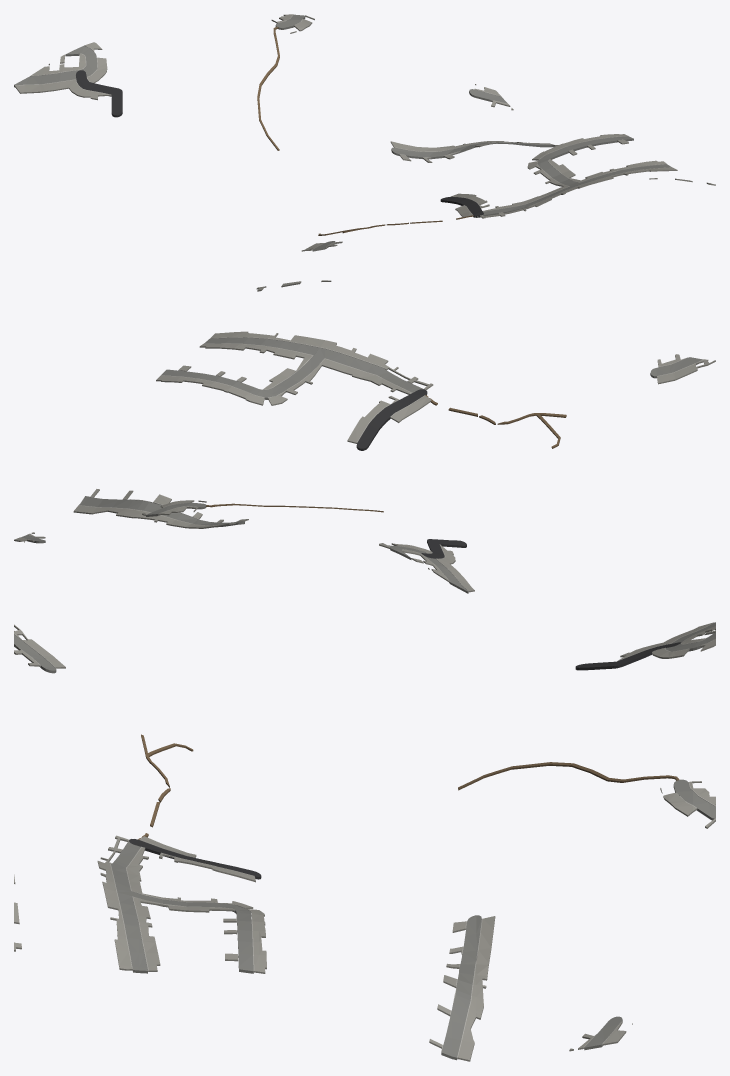
The picture shows the model from 3 angles, top to bottom: view 1: azimuth 30°, elevation 25°; view 2: azimuth 150°, elevation 25°; view 3: azimuth 270°, elevation 25°; orthographic projection. The views are drawn at different scales.
Bounding box in the file's own units: 293 × 79.21 × 292.
